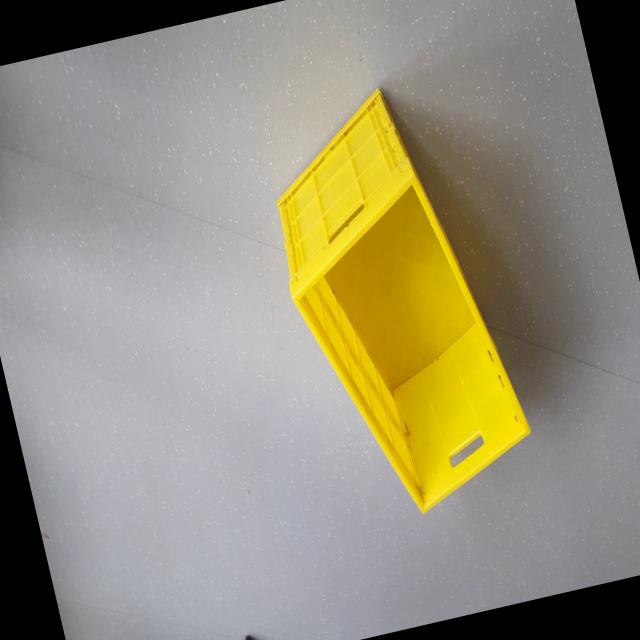box: (242, 64, 561, 544)
